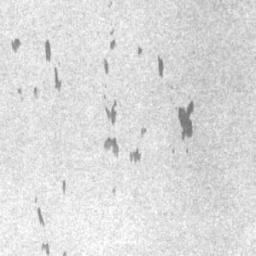Iron scale compression: (15, 39, 61, 101), (103, 100, 146, 164), (33, 179, 67, 256), (136, 44, 164, 78), (178, 103, 193, 140), (9, 38, 20, 54), (109, 39, 116, 51), (110, 186, 117, 196)
